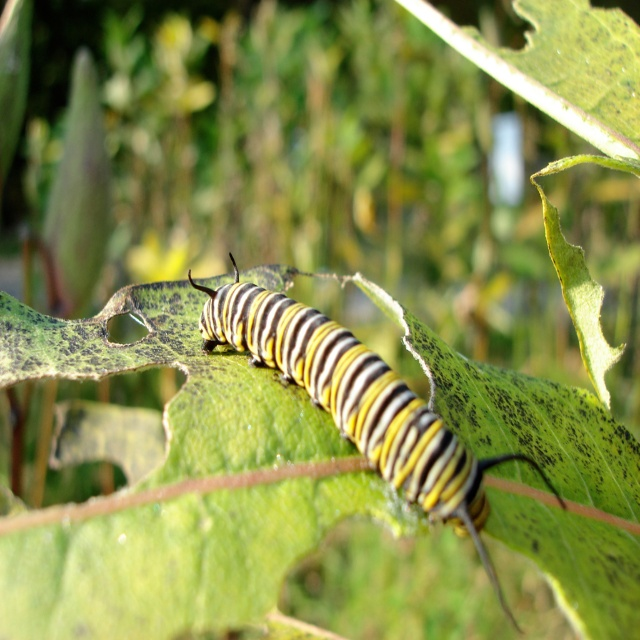Caterpillar: (188, 252, 569, 635)
